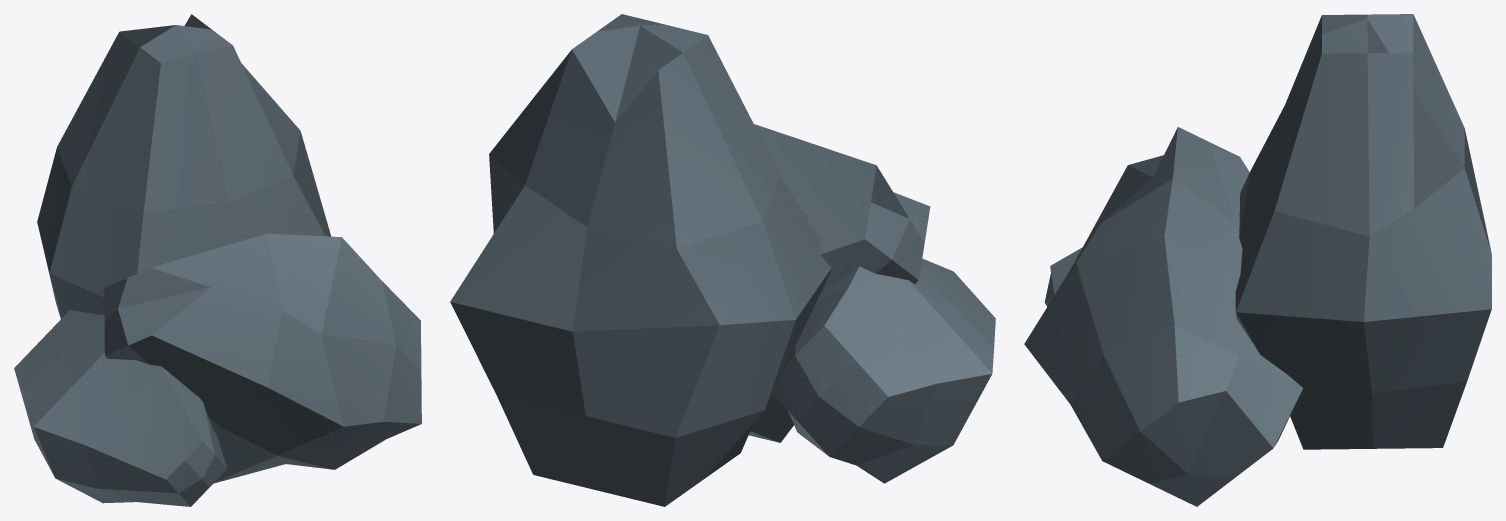
The model's file is piedras.fbx.
3 renders of one model, left to right at view 1: azimuth 30°, elevation 25°; view 2: azimuth 150°, elevation 25°; view 3: azimuth 270°, elevation 25°, orthographic. The views are drawn at different scales.
Visible parts, largest first — view 1: roca.001; view 2: roca.001; view 3: roca.001.
Part boxes in pixels (x1,y1,x2,y2): roca.001: (14,14,421,506); roca.001: (450,14,995,506); roca.001: (1024,14,1491,506).
Bounding box in the file's own units: 1207 × 1213 × 1178.
